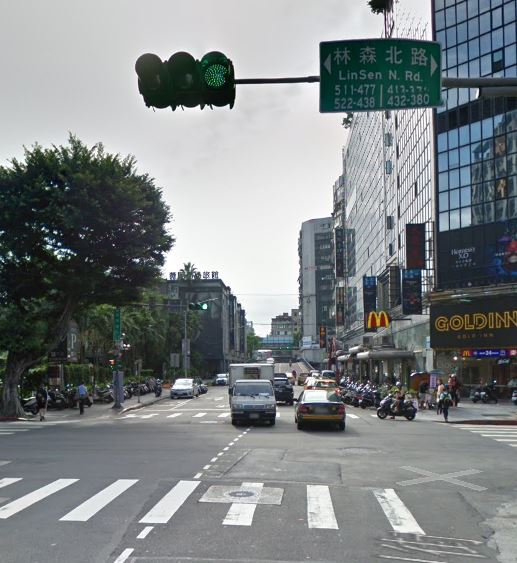Traffic_light_green: (133, 50, 238, 116), (187, 300, 209, 311)
car: (293, 382, 349, 431)
motorcycle: (376, 390, 417, 420)
